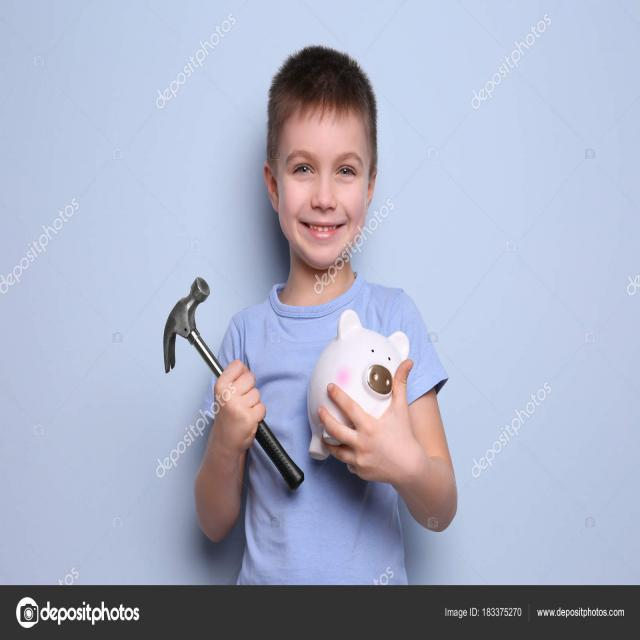hammer: (158, 266, 309, 496)
